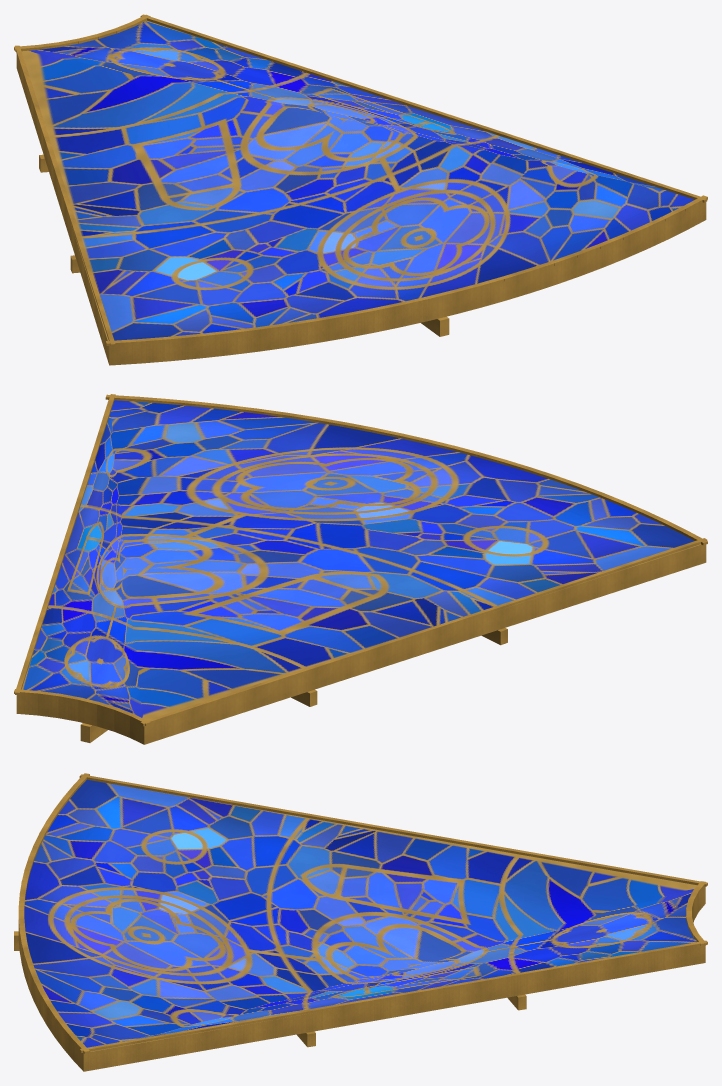
The model's file is lb_wedge_5.glb.
3 renders of one model, top to bottom at view 1: azimuth 30°, elevation 25°; view 2: azimuth 150°, elevation 25°; view 3: azimuth 270°, elevation 25°, orthographic. The views are drawn at different scales.
Parts seen in each view (by area): view 1: lb_wedge_5; view 2: lb_wedge_5; view 3: lb_wedge_5.
Part boxes in pixels (x1,y1,x2,y2): lb_wedge_5: [14, 14, 707, 365]; lb_wedge_5: [14, 394, 707, 744]; lb_wedge_5: [14, 773, 707, 1071].
Bounding box in the file's own units: 11.56 × 1.35 × 12.17.
4 materials, 3 textured.
